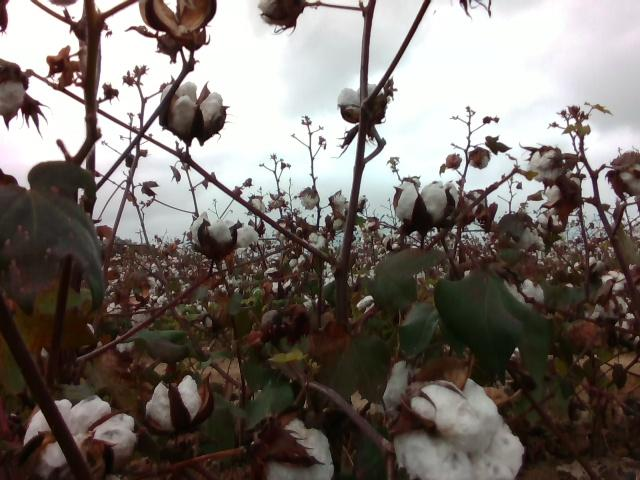cotton_ready: (392, 378, 526, 480), (25, 395, 137, 480), (262, 419, 337, 480), (161, 81, 224, 140), (146, 374, 202, 433), (393, 181, 458, 226), (382, 358, 425, 414), (191, 211, 235, 257), (338, 83, 386, 122), (546, 172, 583, 216), (0, 63, 27, 118), (528, 146, 566, 182), (501, 278, 546, 307), (257, 0, 306, 26), (610, 152, 640, 192), (504, 223, 541, 250), (234, 227, 260, 248)
